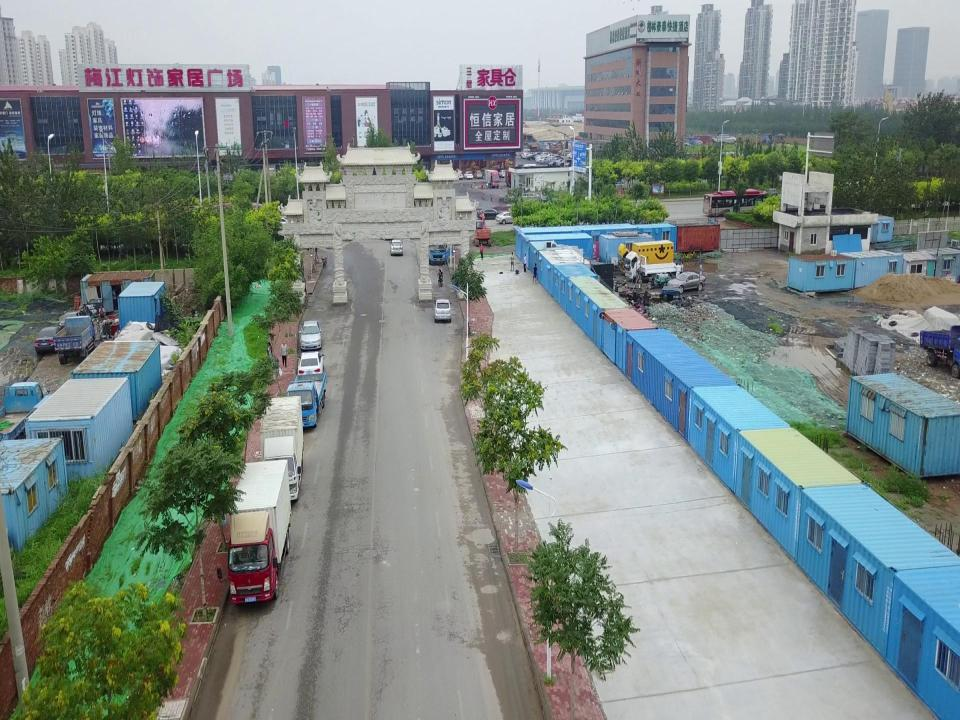bus: (702, 188, 766, 219)
car: (34, 324, 66, 358), (667, 270, 706, 292), (296, 352, 324, 380), (298, 321, 322, 351), (433, 298, 451, 320), (476, 207, 504, 220), (496, 212, 522, 225), (389, 239, 403, 256), (454, 170, 463, 179), (498, 170, 507, 178), (472, 171, 482, 178), (464, 171, 472, 179)
truck: (218, 462, 290, 610), (260, 395, 302, 502), (0, 380, 51, 446), (287, 373, 327, 427), (616, 239, 676, 274), (920, 325, 958, 379), (55, 316, 96, 365), (622, 250, 676, 281), (424, 215, 456, 265), (484, 169, 500, 188)
